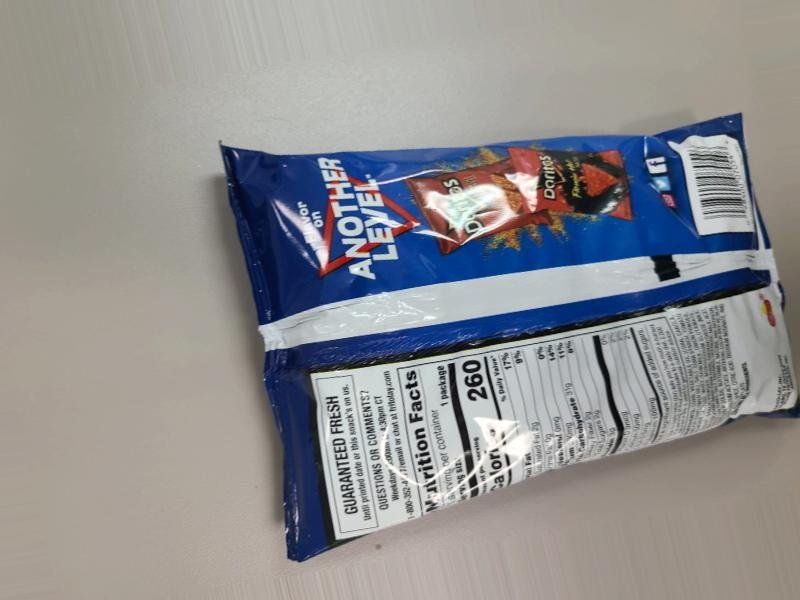doritos: (276, 115, 762, 600)
